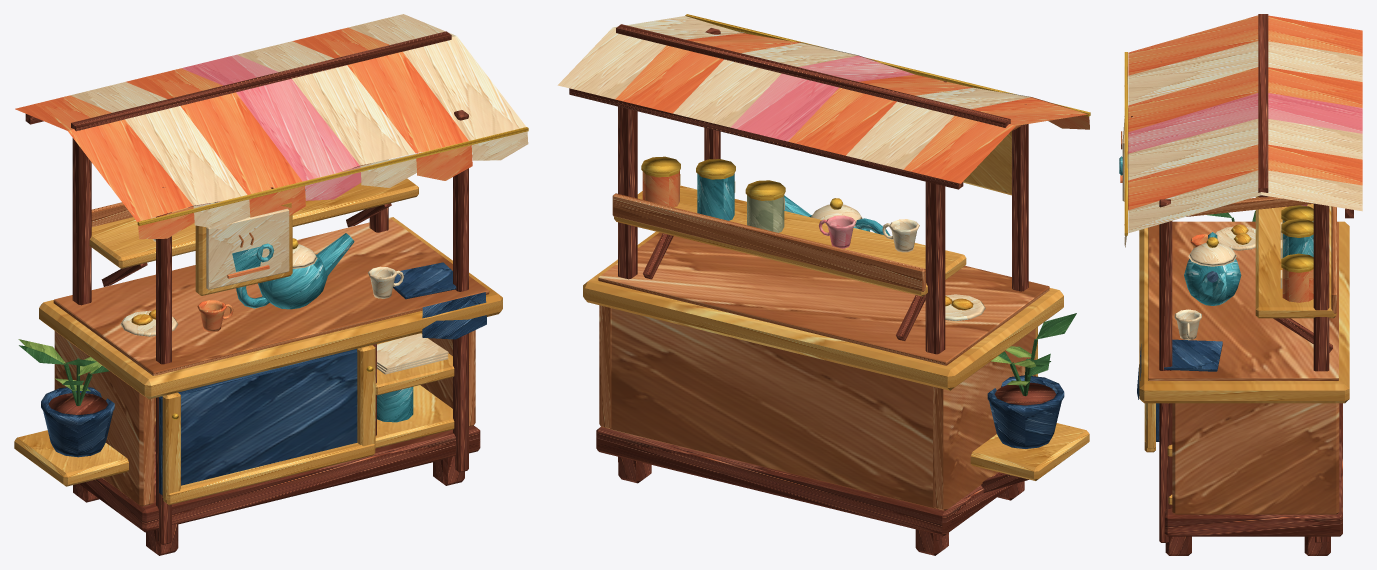
Rendered from oil_handpaint_tea_kiosk_editable_parts.glb.
3 views of the same model, side by side, from view 1: azimuth 30°, elevation 25°; view 2: azimuth 150°, elevation 25°; view 3: azimuth 270°, elevation 25° (orthographic). The views are drawn at different scales.
Visible parts, largest first — view 1: 016 Warm oil-painted serving surface, 009 Indigo hand-painted front panel, 015 Generous serving counter golden edge, 000 Tea kiosk underframe, 031 Broad stripe canopy cloth 4, 025 Broad stripe canopy cloth 1, 037 Broad stripe canopy cloth 7, 029 Broad stripe canopy cloth 3, 033 Broad stripe canopy cloth 5, 035 Broad stripe canopy cloth 6, 027 Broad stripe canopy cloth 2, 007 Tea kiosk left lower side wall (+34 smaller); view 2: 006 Tea kiosk back storage wall, 016 Warm oil-painted serving surface, 015 Generous serving counter golden edge, 000 Tea kiosk underframe, 043 Shelf back lip, 007 Tea kiosk left lower side wall, 025 Broad stripe canopy cloth 1, 040 Back tea display shelf, 031 Broad stripe canopy cloth 4, 033 Broad stripe canopy cloth 5, 037 Broad stripe canopy cloth 7, 027 Broad stripe canopy cloth 2 (+24 smaller); view 3: 008 Tea kiosk right lower side wall, 016 Warm oil-painted serving surface, 015 Generous serving counter golden edge, 027 Broad stripe canopy cloth 2, 035 Broad stripe canopy cloth 6, 033 Broad stripe canopy cloth 5, 029 Broad stripe canopy cloth 3, 025 Broad stripe canopy cloth 1, 037 Broad stripe canopy cloth 7, 031 Broad stripe canopy cloth 4, 000 Tea kiosk underframe, 040 Back tea display shelf (+21 smaller).
Part boxes in pixels (left/top/right/bottom): 016 Warm oil-painted serving surface: left=53, top=217, right=489, bottom=375; 009 Indigo hand-painted front panel: left=159, top=349, right=357, bottom=495; 015 Generous serving counter golden edge: left=39, top=217, right=502, bottom=399; 000 Tea kiosk underframe: left=79, top=425, right=480, bottom=532; 031 Broad stripe canopy cloth 4: left=181, top=54, right=359, bottom=181; 025 Broad stripe canopy cloth 1: left=15, top=95, right=192, bottom=221; 037 Broad stripe canopy cloth 7: left=348, top=14, right=526, bottom=140; 029 Broad stripe canopy cloth 3: left=126, top=68, right=302, bottom=194; 033 Broad stripe canopy cloth 5: left=237, top=41, right=414, bottom=165; 035 Broad stripe canopy cloth 6: left=292, top=27, right=468, bottom=153; 027 Broad stripe canopy cloth 2: left=70, top=82, right=247, bottom=205; 007 Tea kiosk left lower side wall: left=54, top=331, right=154, bottom=506; 006 Tea kiosk back storage wall: left=610, top=308, right=935, bottom=508; 016 Warm oil-painted serving surface: left=598, top=232, right=1049, bottom=365; 015 Generous serving counter golden edge: left=583, top=231, right=1063, bottom=390; 000 Tea kiosk underframe: left=596, top=427, right=1014, bottom=535; 043 Shelf back lip: left=612, top=193, right=925, bottom=291; 007 Tea kiosk left lower side wall: left=933, top=328, right=1035, bottom=510; 025 Broad stripe canopy cloth 1: left=903, top=97, right=1087, bottom=183; 040 Back tea display shelf: left=614, top=185, right=966, bottom=296; 031 Broad stripe canopy cloth 4: left=730, top=56, right=914, bottom=141; 033 Broad stripe canopy cloth 5: left=673, top=43, right=857, bottom=127; 037 Broad stripe canopy cloth 7: left=557, top=16, right=742, bottom=99; 027 Broad stripe canopy cloth 2: left=846, top=87, right=1029, bottom=169; 008 Tea kiosk right lower side wall: left=1172, top=403, right=1339, bottom=514; 016 Warm oil-painted serving surface: left=1148, top=221, right=1338, bottom=380; 015 Generous serving counter golden edge: left=1139, top=221, right=1349, bottom=403; 027 Broad stripe canopy cloth 2: left=1128, top=41, right=1362, bottom=105; 035 Broad stripe canopy cloth 6: left=1128, top=144, right=1362, bottom=210; 033 Broad stripe canopy cloth 5: left=1128, top=118, right=1362, bottom=180; 029 Broad stripe canopy cloth 3: left=1128, top=67, right=1362, bottom=132; 025 Broad stripe canopy cloth 1: left=1128, top=15, right=1362, bottom=75; 037 Broad stripe canopy cloth 7: left=1128, top=170, right=1362, bottom=233; 031 Broad stripe canopy cloth 4: left=1128, top=93, right=1362, bottom=153; 000 Tea kiosk underframe: left=1164, top=403, right=1342, bottom=536; 040 Back tea display shelf: left=1255, top=196, right=1336, bottom=318.
Bounding box in the file's own units: 2.5 × 2.26 × 1.3.
Materials: 3 (3 with a texture image).
